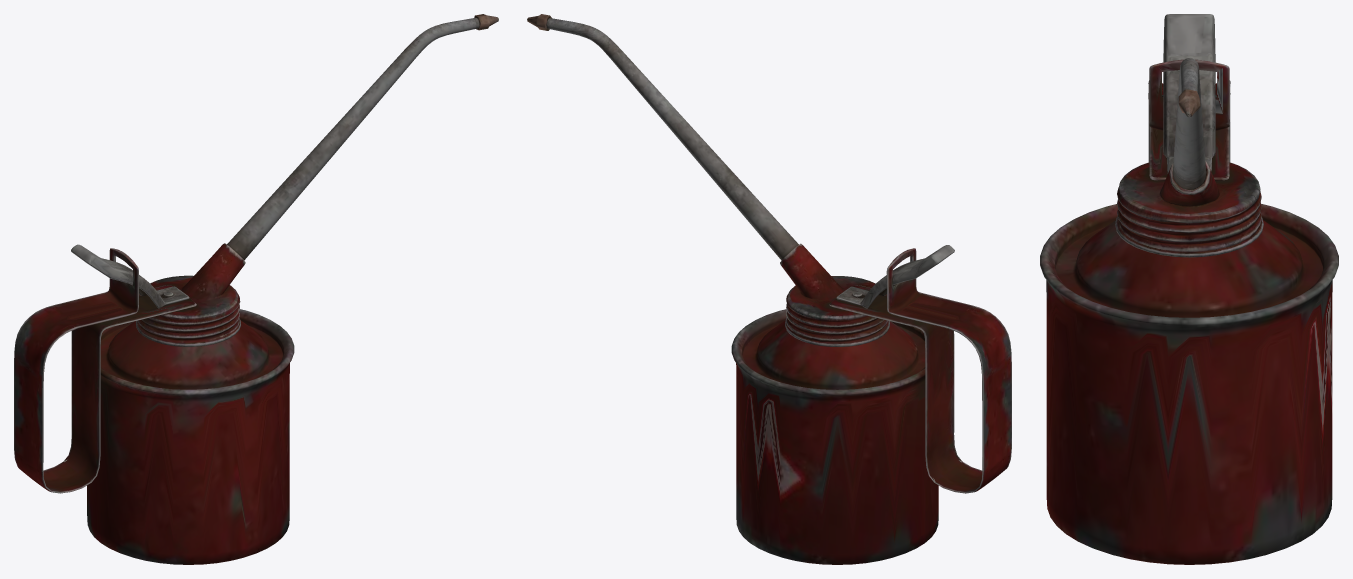
The model's file is small-oil-can-01.glb.
3 views of the same model, side by side, from view 1: azimuth 30°, elevation 25°; view 2: azimuth 150°, elevation 25°; view 3: azimuth 270°, elevation 25° (orthographic). The views are drawn at different scales.
Visible parts, largest first — view 1: small_oil_can_01; view 2: small_oil_can_01; view 3: small_oil_can_01.
Part boxes in pixels (left/top/right/bottom): small_oil_can_01: left=14, top=14, right=498, bottom=564; small_oil_can_01: left=527, top=14, right=1011, bottom=564; small_oil_can_01: left=1040, top=14, right=1338, bottom=564.
Bounding box in the file's own units: 0.2661 × 0.2368 × 0.1038.
Materials: 1 (1 with a texture image).
